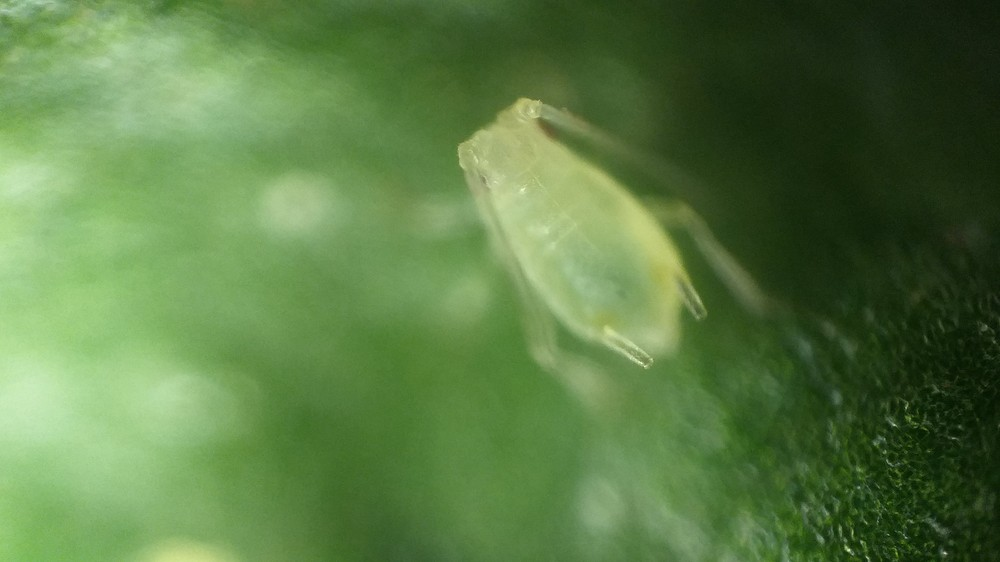Pulgon: (440, 77, 791, 422)
